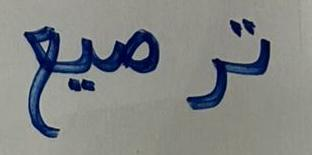ain: (15, 18, 62, 142)
reh: (177, 35, 226, 123)
sad: (103, 12, 163, 92)
teh: (227, 13, 278, 88)
yeh: (63, 24, 99, 109)
